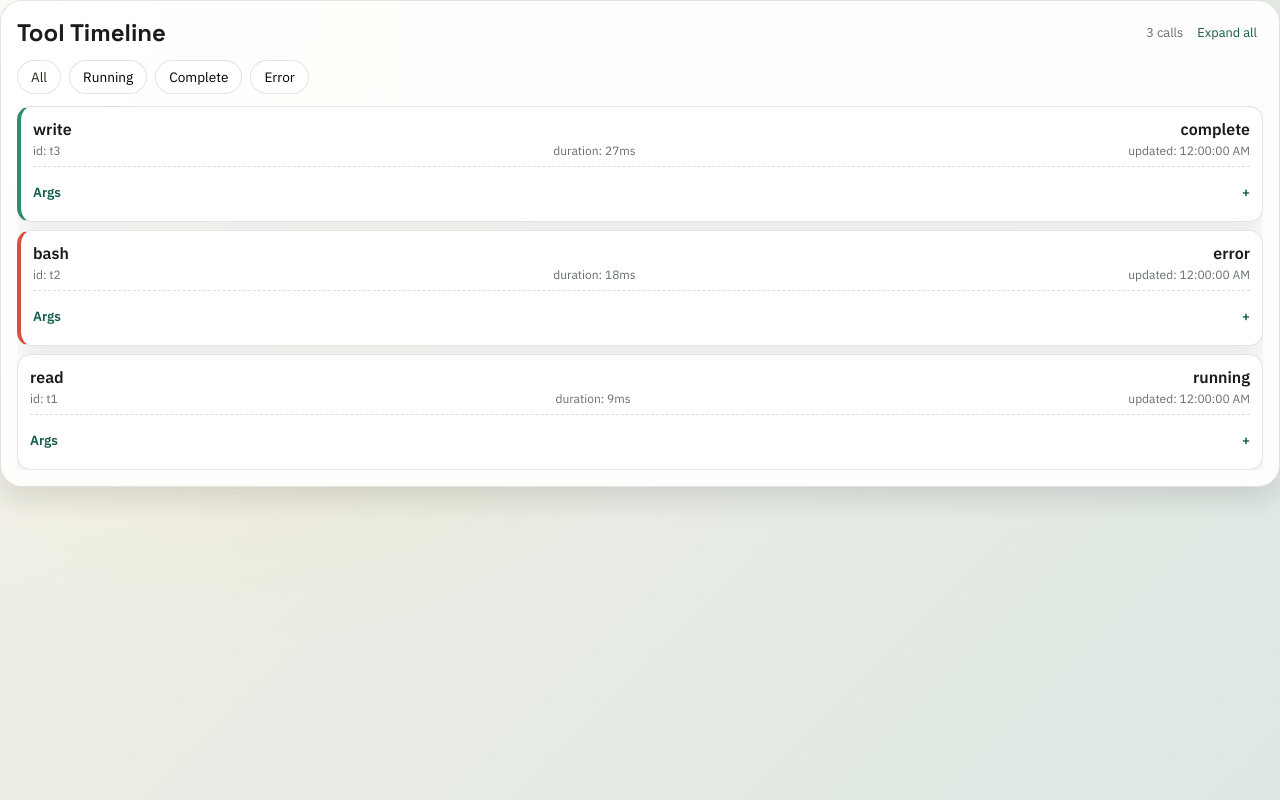
Test case: ToolTimeline › filters tool executions by status
Expected: the text "read" is shown, x1=30 y1=367 x2=64 y2=387
Expected: the text "bash" is shown, x1=33 y1=243 x2=69 y2=263
Step 1. Click the button "error" → (280, 77), box x1=250 y1=60 x2=309 y2=94
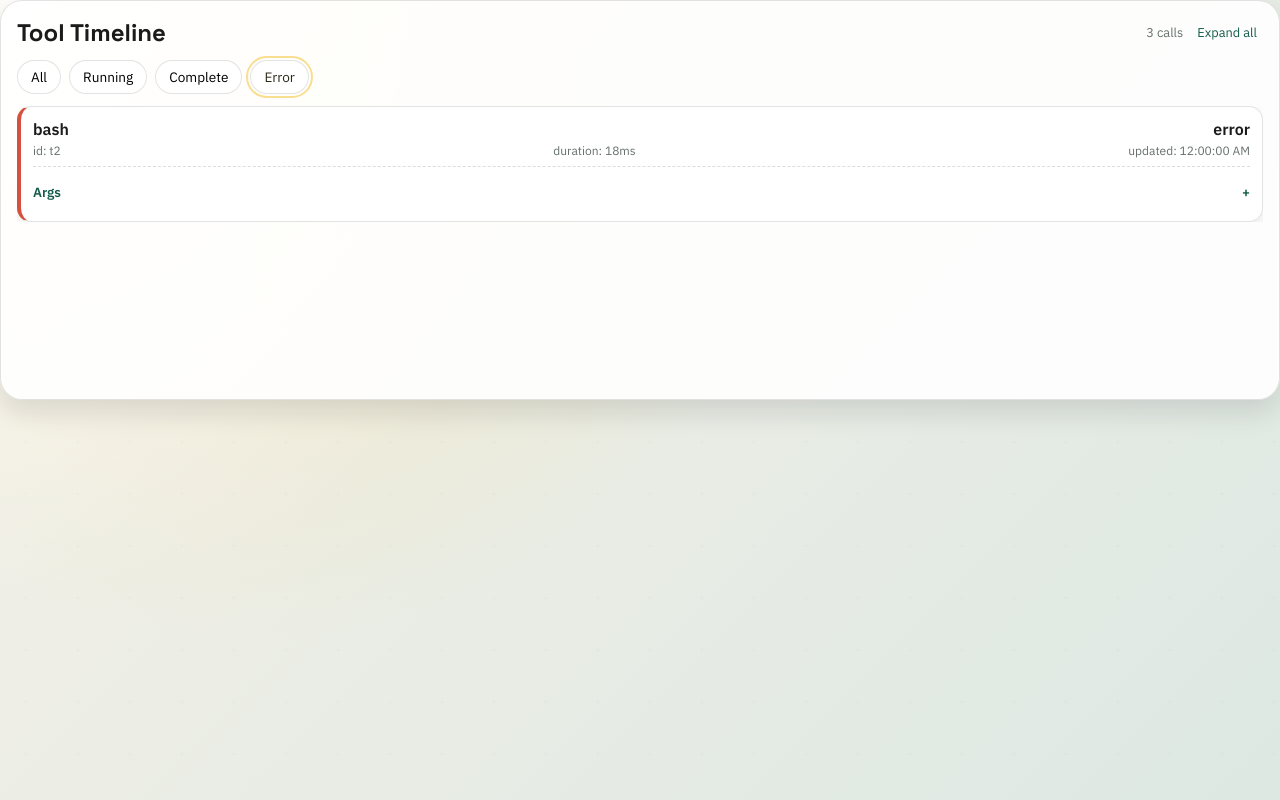
Expected: the text "bash" is shown, x1=33 y1=119 x2=69 y2=139
Expected: the text "read" is gone
Expected: the text "write" is gone
Step 2. Click the button "complete" → (199, 77), box x1=155 y1=60 x2=242 y2=94
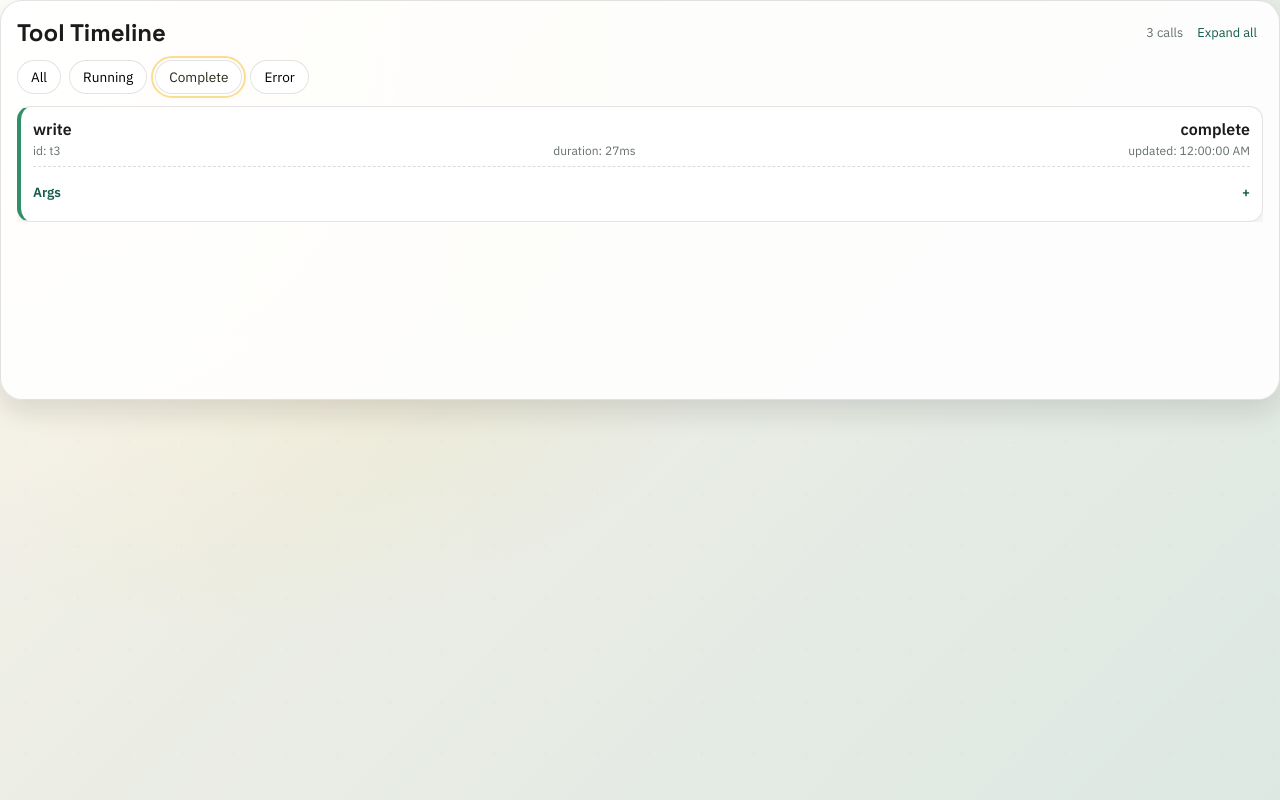
Expected: the text "read" is not shown
Expected: the text "bash" is gone
Expected: the text "write" is shown, x1=33 y1=119 x2=72 y2=139
